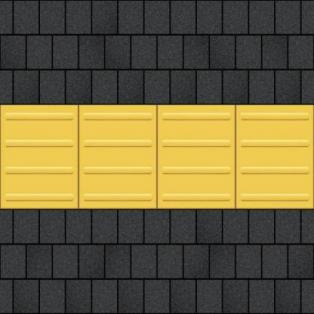Podoctatil: (2, 104, 312, 208)
